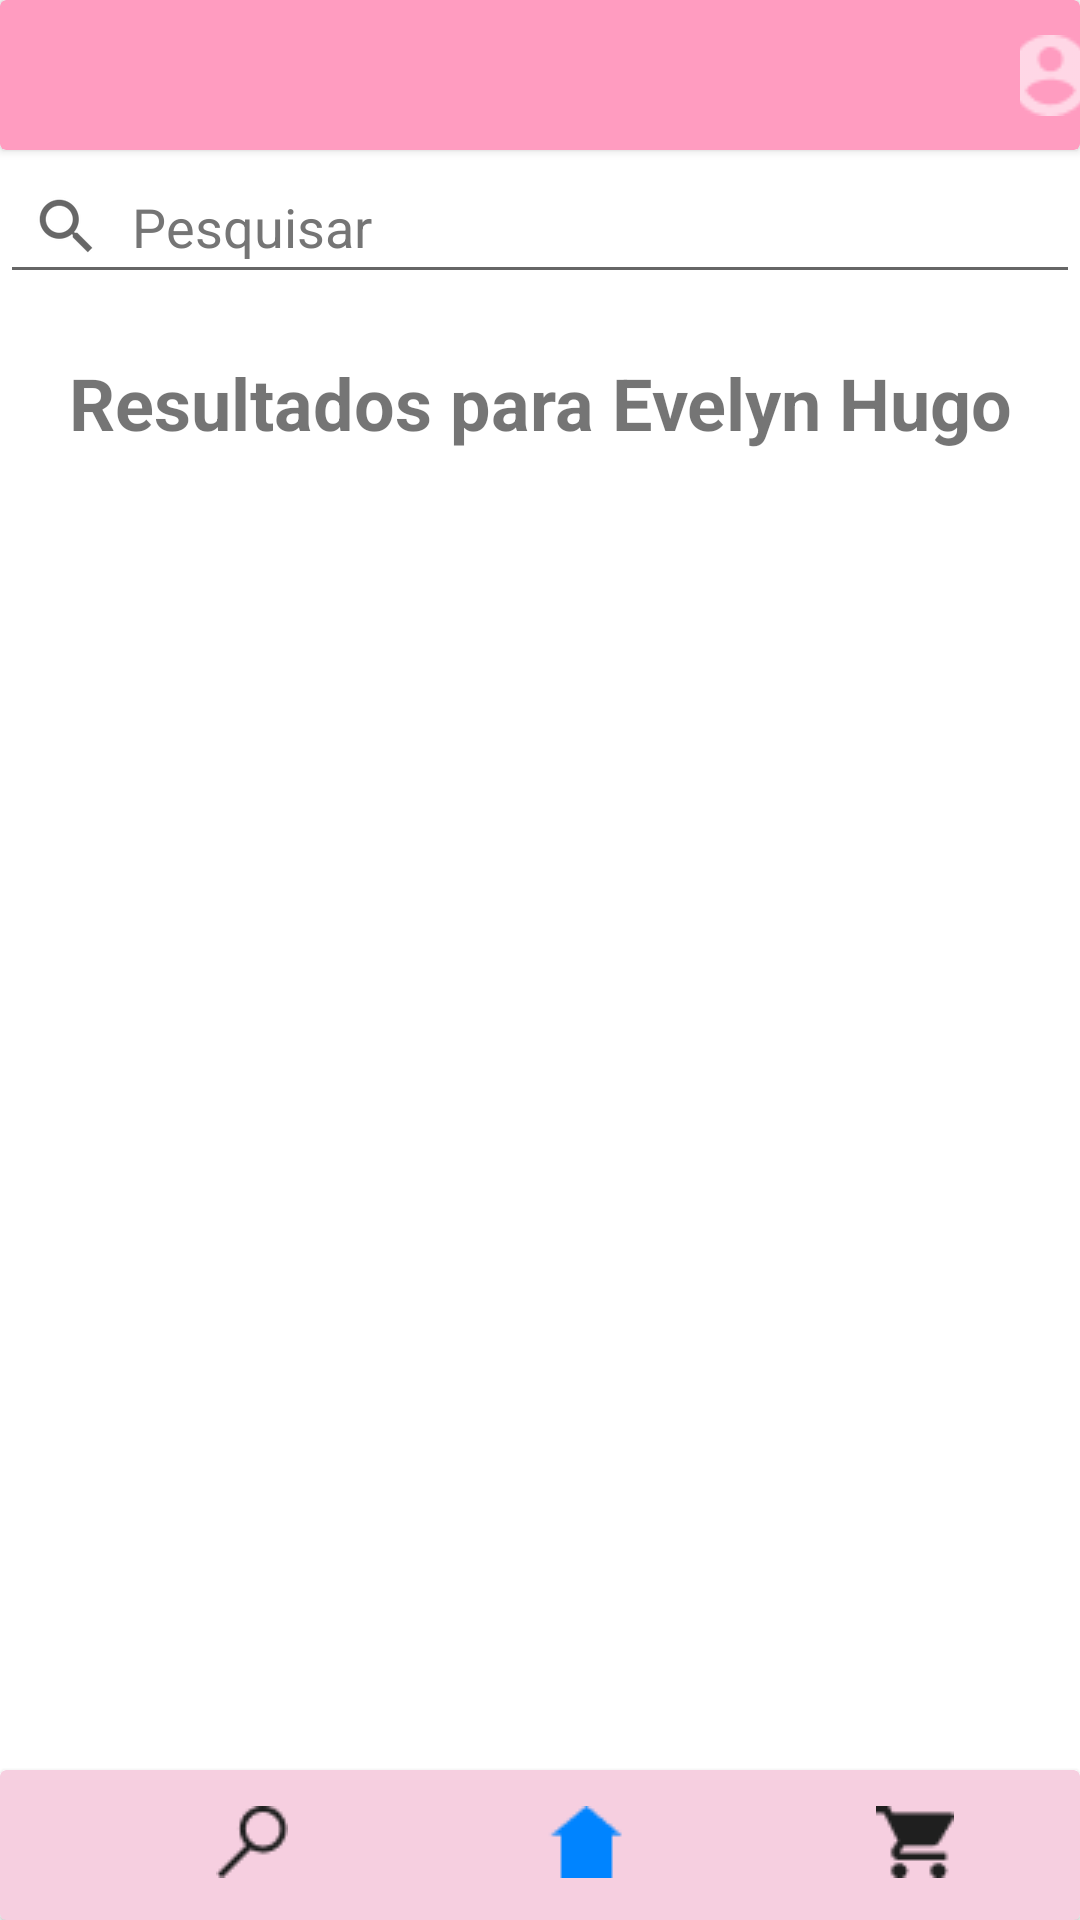

Where to tap for icons on this 1080*1920 app screen, as (x=x, y=y):
Carrinho: (x=915, y=1842)
Home: (x=586, y=1842)
Login: (x=1050, y=75)
Pesquisar: (x=252, y=1842)
